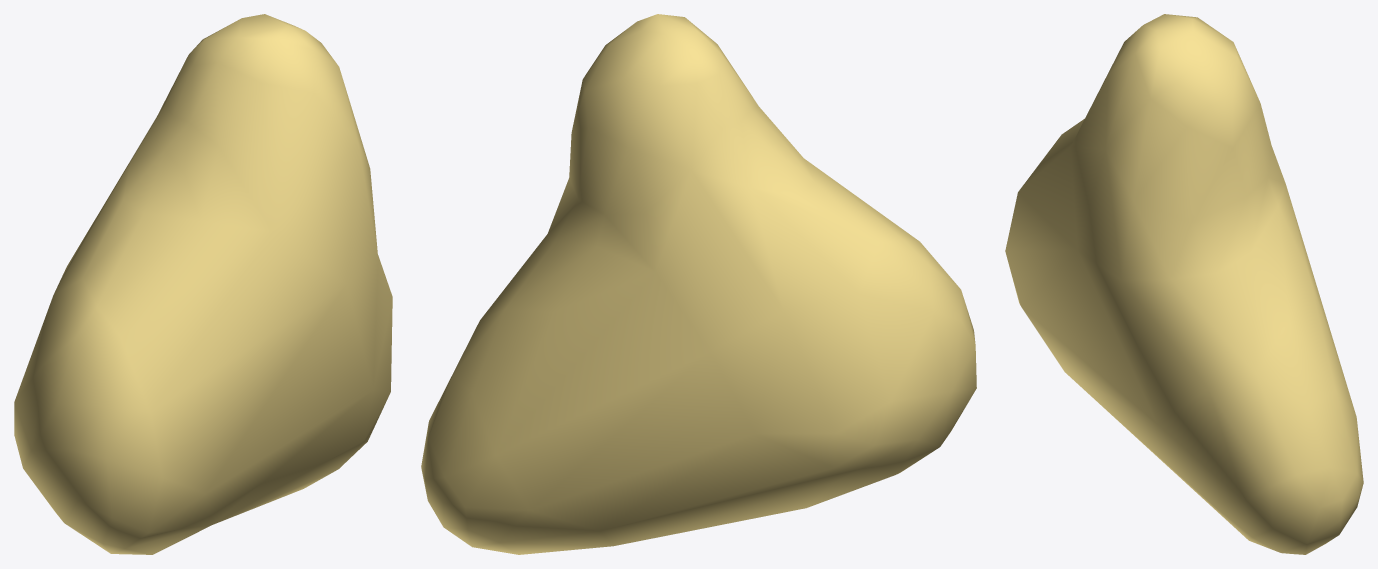
The picture shows the model from 3 angles, left to right: view 1: azimuth 30°, elevation 25°; view 2: azimuth 150°, elevation 25°; view 3: azimuth 270°, elevation 25°; orthographic projection. The views are drawn at different scales.
Visible parts, largest first — view 1: ZA_ad6466d176889033; view 2: ZA_ad6466d176889033; view 3: ZA_ad6466d176889033.
Part boxes in pixels (x1=…): ZA_ad6466d176889033: x1=14, y1=14, x2=392, y2=554; ZA_ad6466d176889033: x1=421, y1=14, x2=976, y2=554; ZA_ad6466d176889033: x1=1005, y1=14, x2=1363, y2=554.
Size of the model in its own units: 0.00303 by 0.00339 by 0.0023.
